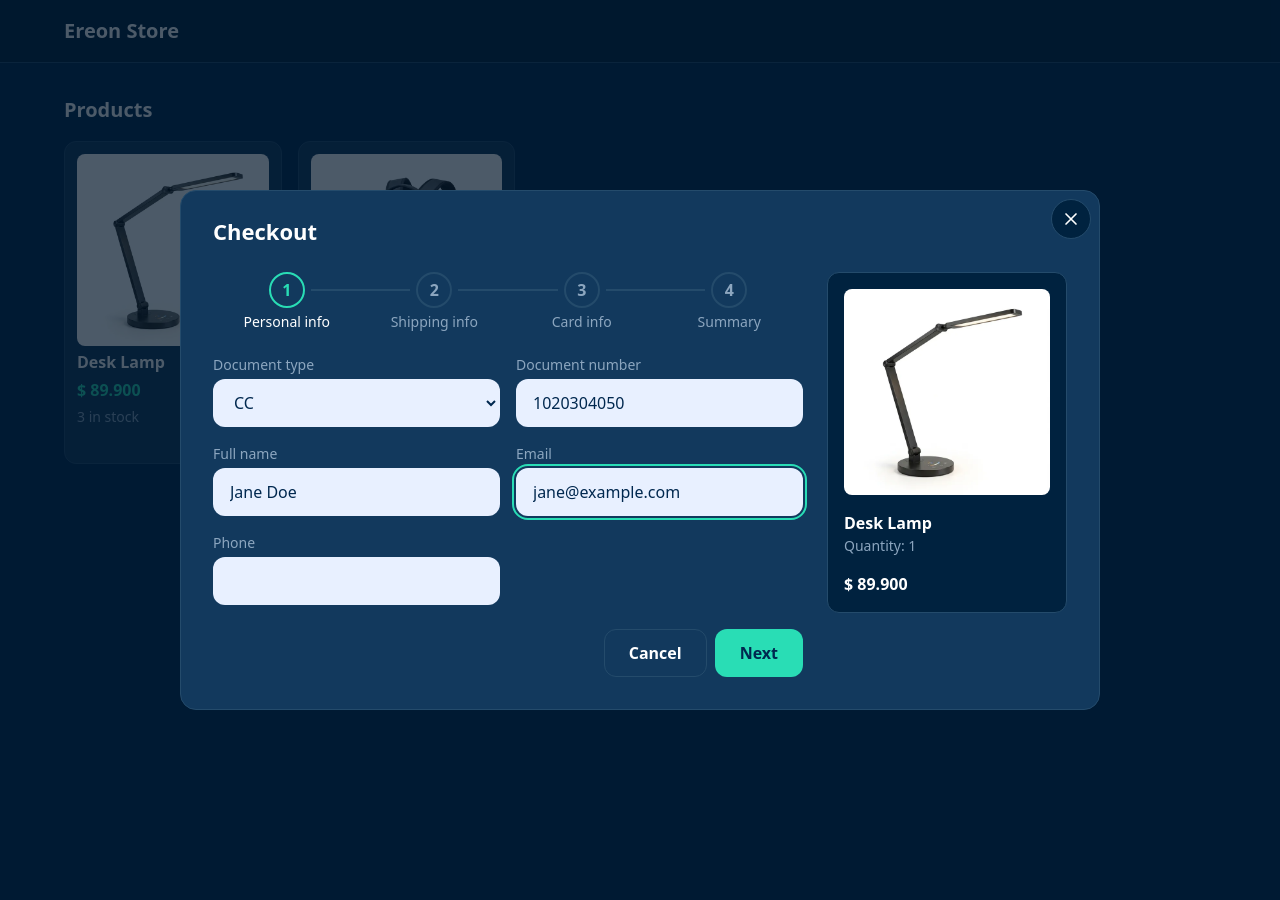
Test: checkout modal › loads fresh tokens and gates "Continue" on the terms in the card step
Earlier steps of the test are not shown.
Later steps or results of the test are not shown.
Type "3001112233" into the field labelled "Phone" at (356, 581), box [213,557,500,605]
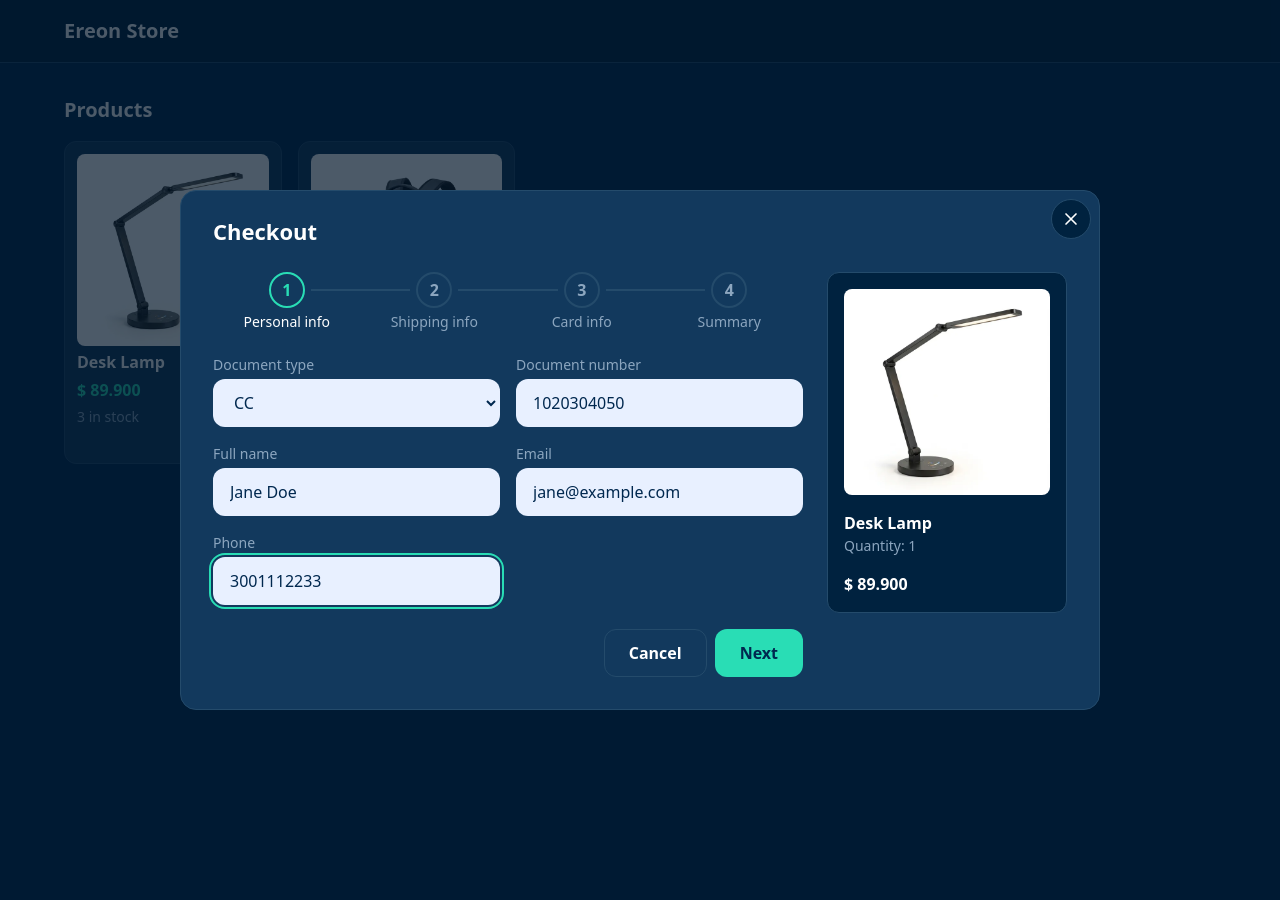
Click the button "Next" at (759, 653), box [715,629,803,677]
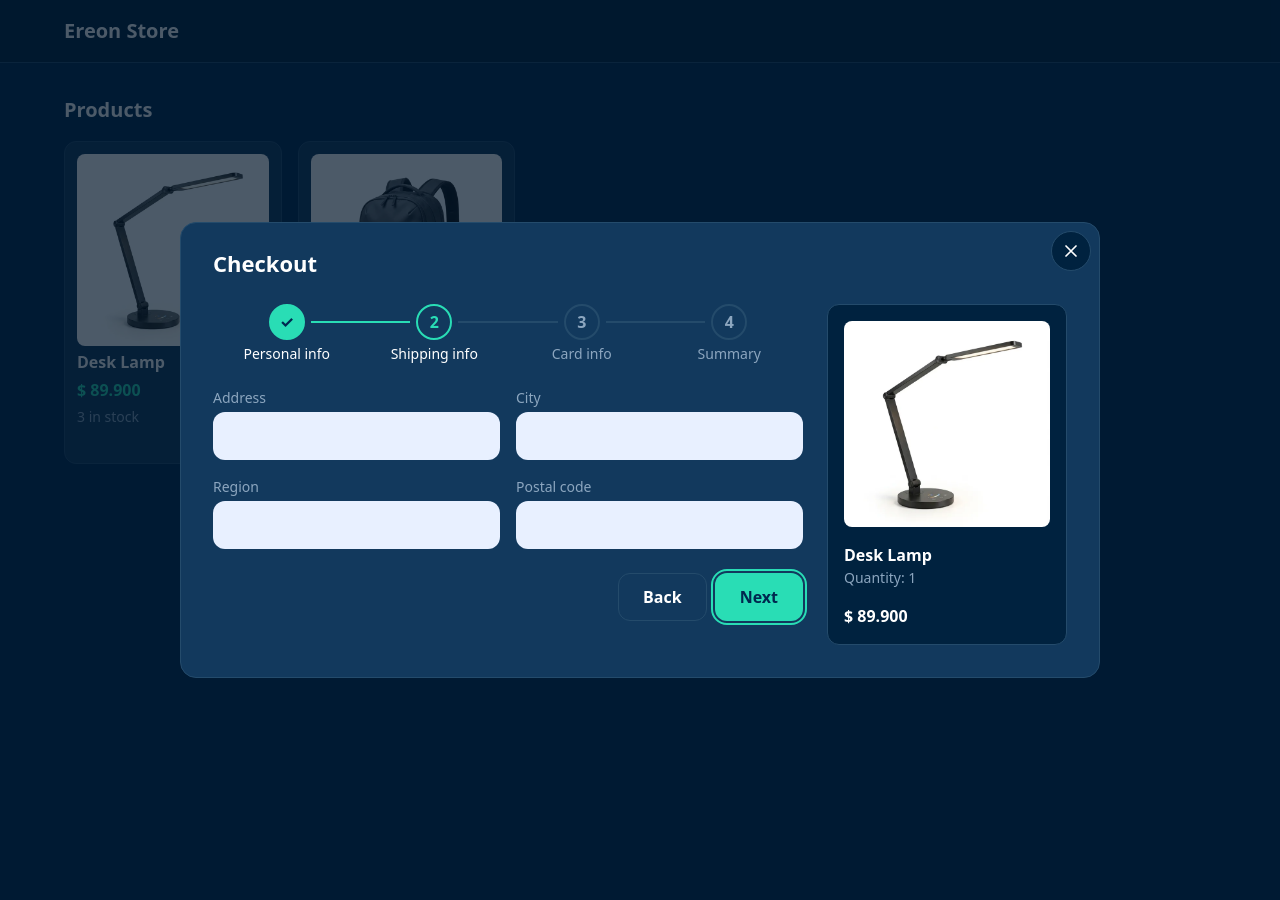
Type "Calle 1 # 2-3" into the field labelled "Address" at (356, 436), box [213,412,500,460]
Type "Bogota" into the field labelled "City" at (660, 436), box [516,412,803,460]
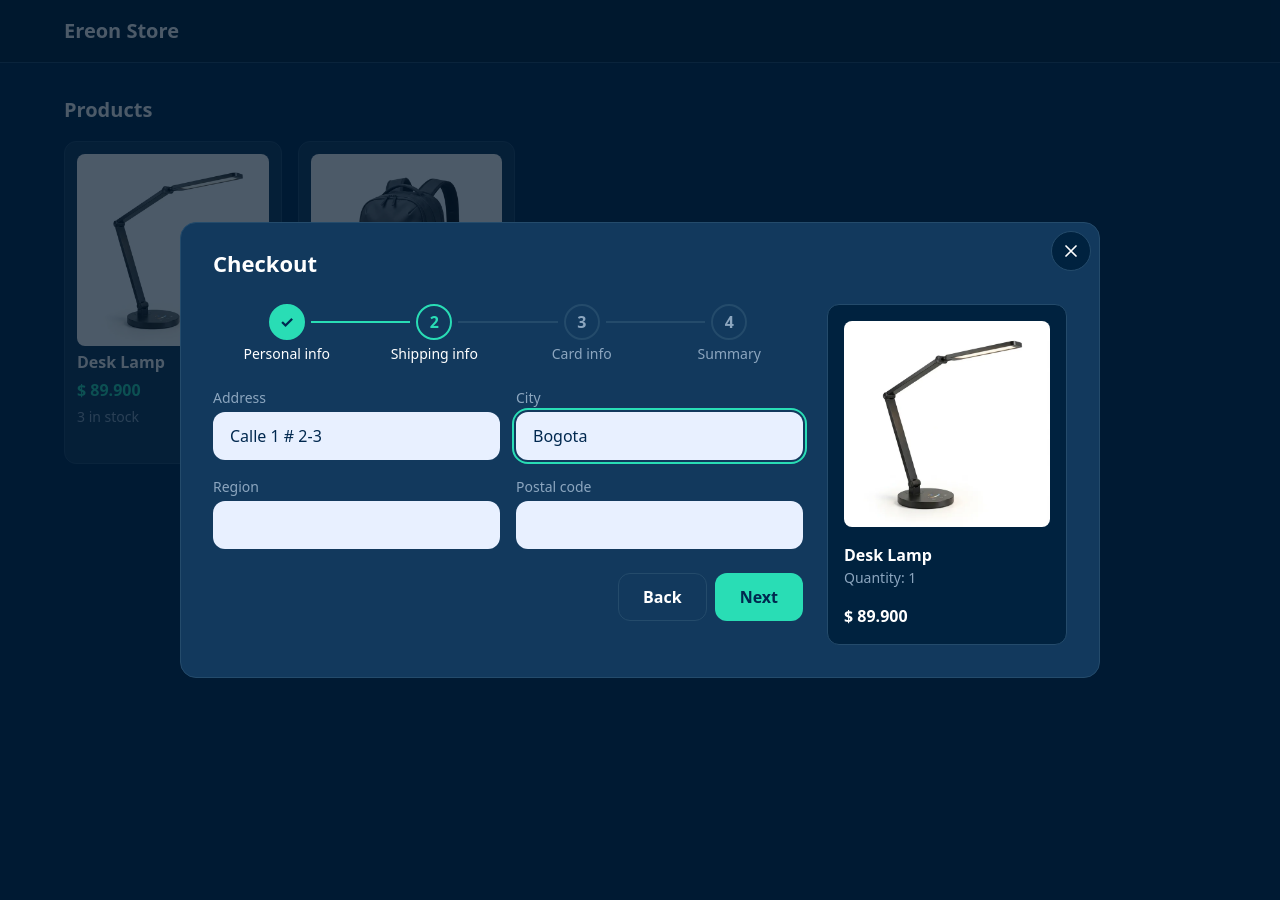
Type "Cundinamarca" into the field labelled "Region" at (356, 525), box [213,501,500,549]
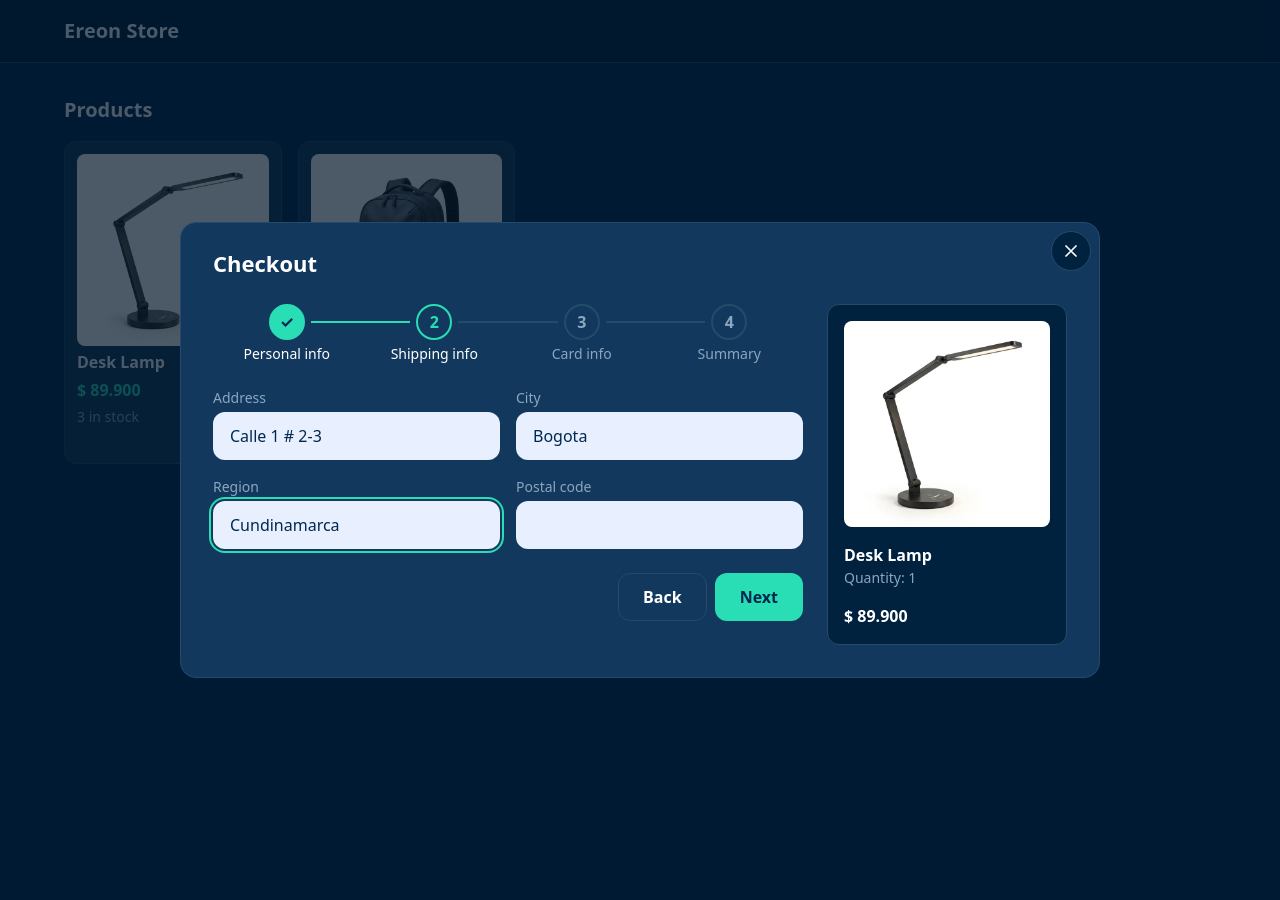
Type "110111" into the field labelled "Postal code" at (660, 525), box [516,501,803,549]
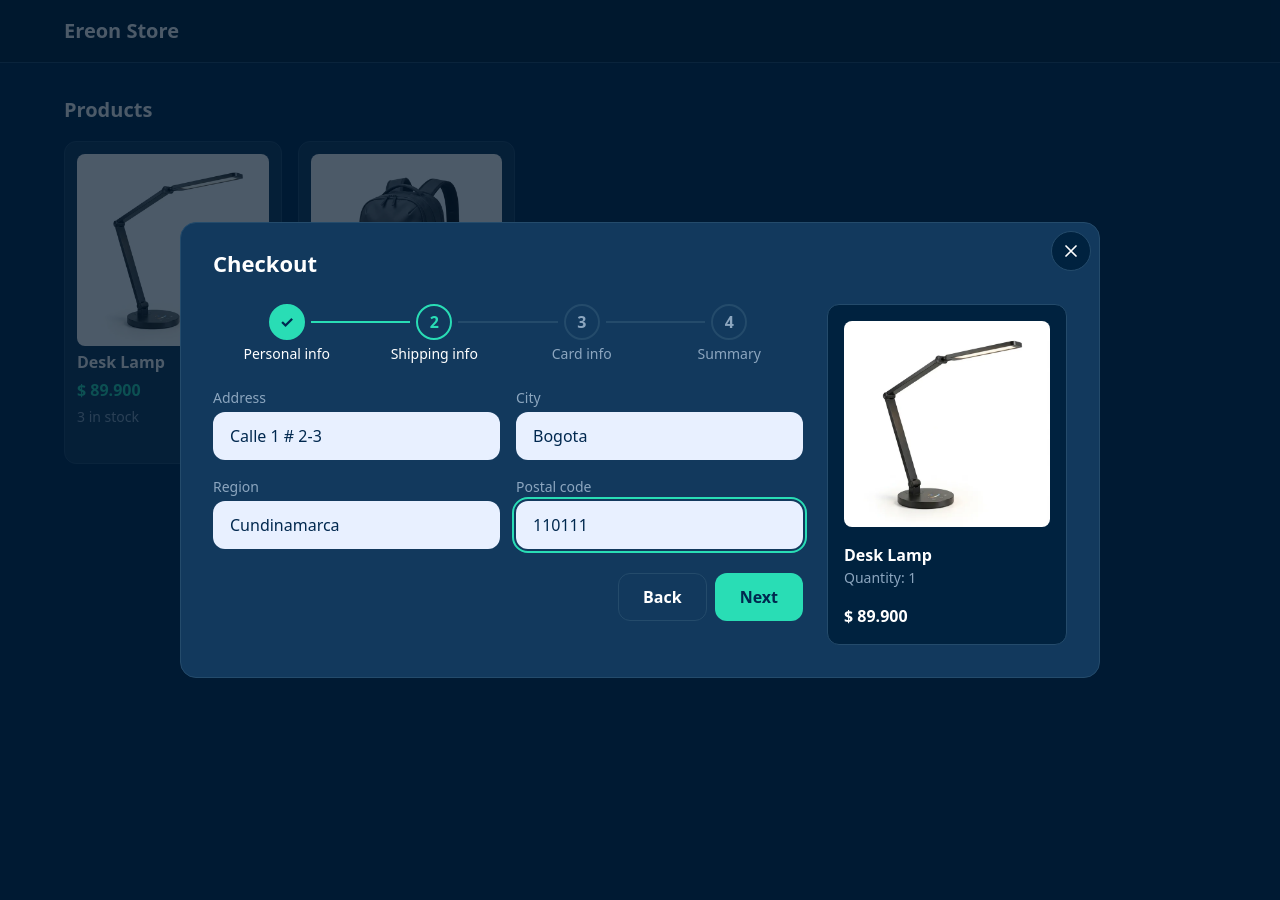
Click the button "Next" at (759, 597), box [715,573,803,621]
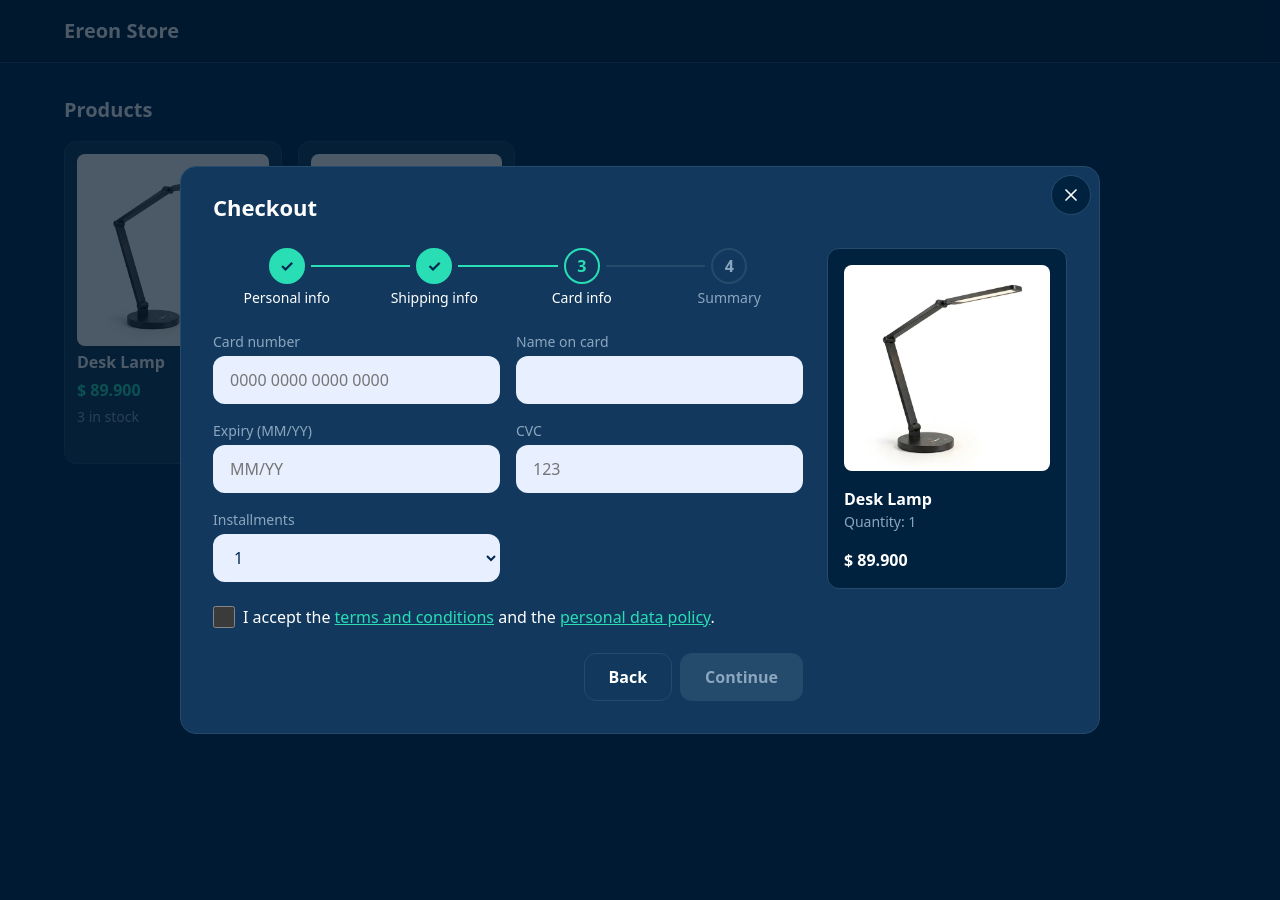
Expected: the checkbox is enabled, [213,606,235,628]
